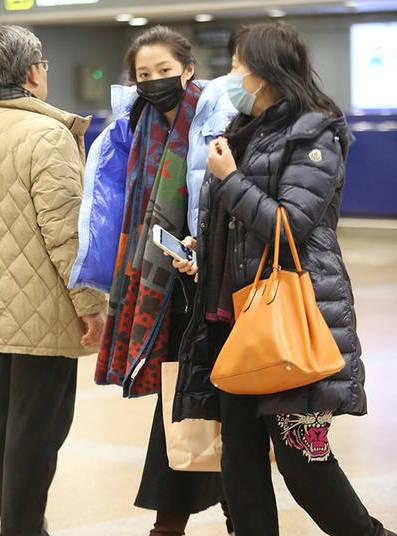OK: (134, 56, 186, 108), (230, 60, 272, 116)
